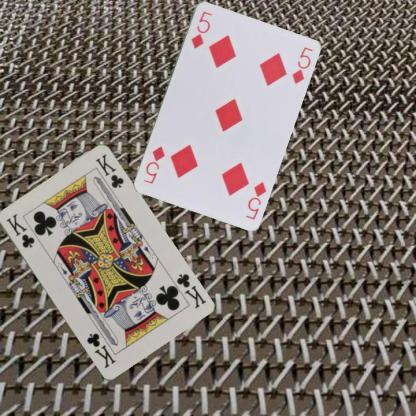5d: (188, 8, 214, 50), (243, 178, 268, 221)
Kc: (173, 271, 207, 310), (3, 210, 36, 250)
